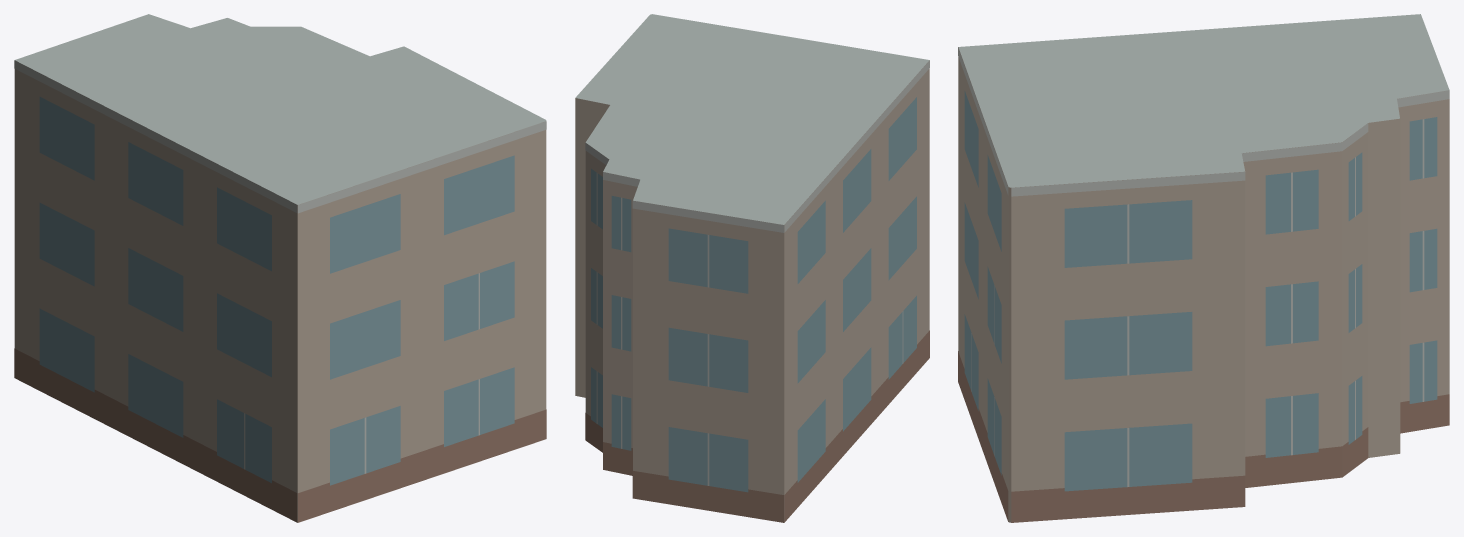
File: survey-upis-32622354.glb
The picture shows the model from 3 angles, left to right: view 1: azimuth 30°, elevation 25°; view 2: azimuth 150°, elevation 25°; view 3: azimuth 270°, elevation 25°; orthographic projection. The views are drawn at different scales.
Parts seen in each view (by area): view 1: survey-upis-32622354.tmp; view 2: survey-upis-32622354.tmp; view 3: survey-upis-32622354.tmp.
Boxes of the visible parts, x1,y1,x2,y2 form: survey-upis-32622354.tmp: (14, 14, 546, 522); survey-upis-32622354.tmp: (575, 14, 929, 522); survey-upis-32622354.tmp: (958, 14, 1449, 522).
Size of the model in its own units: 10.18 by 9.15 by 12.17.
